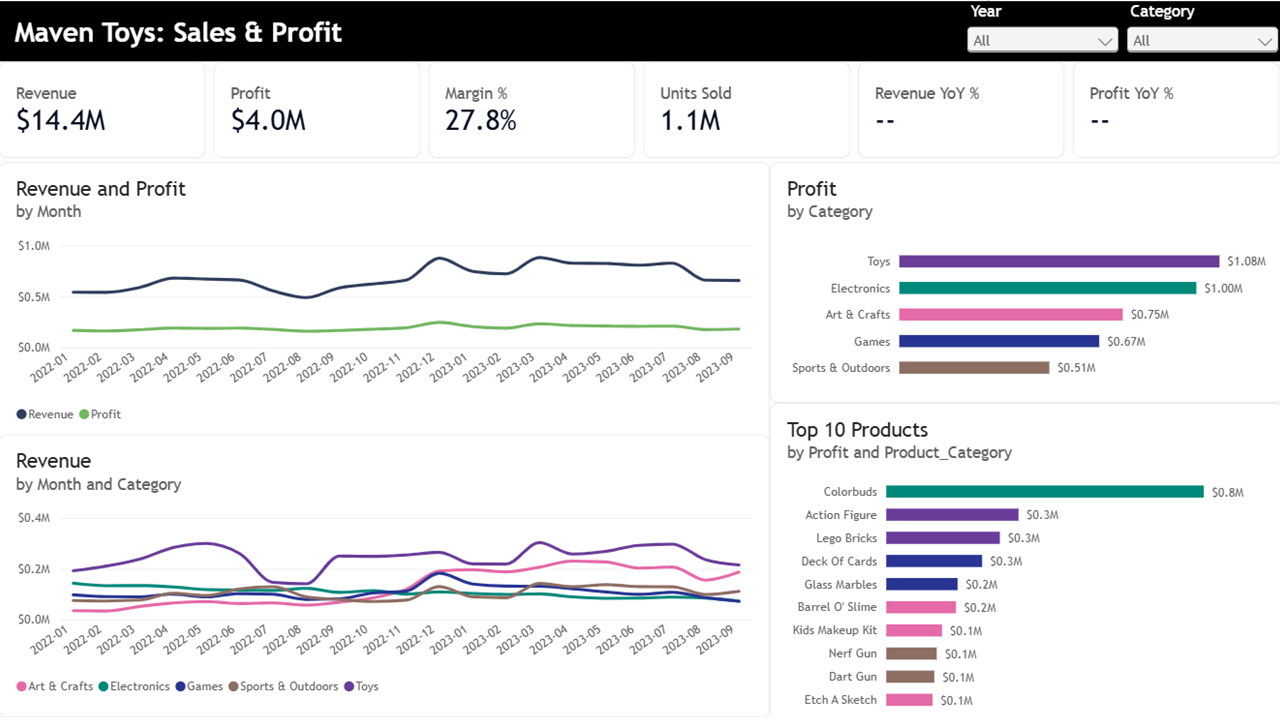

This screenshot's page, from the dashboard's own definition file:
{"tool":"powerbi","page":{"name":"Overview","canvas":[1280,720],"ordinal":0},"visuals":[{"type":"shape","box":[0,0,1280,60],"z":0,"group":"g1"},{"type":"cardVisual","fields":{"Data":["_measures.Revenue","_measures.Profit","_measures.Margin %","_measures.Units Sold","_measures.Revenue YoY %","_measures.Profit YoY %"]},"box":[0,60,1280,96],"z":0},{"type":"textbox","box":[16,16,624,32],"z":1000,"group":"g1"},{"type":"lineChart","fields":{"Category":["calendar.Year-Month"],"Y":["_measures.Revenue","_measures.Profit"]},"box":[0,160,768,282],"z":1000},{"type":"slicer","fields":{"Values":["calendar.Year"]},"box":[960,0,160,64],"z":2000,"group":"g1"},{"type":"lineChart","fields":{"Category":["calendar.Year-Month"],"Series":["products.Product_Category"],"Y":["_measures.Revenue"]},"box":[0,432,768,282],"z":2000},{"type":"slicer","fields":{"Values":["products.Product_Category"]},"box":[1120,0,160,64],"z":3000,"group":"g1"},{"type":"clusteredBarChart","title":"Profit","fields":{"Category":["products.Product_Category"],"Y":["_measures.Profit"]},"box":[768,160,512,240],"z":3000},{"type":"barChart","fields":{"Category":["products.Product_Name"],"Series":["products.Product_Category"],"Y":["_measures.Profit"]},"box":[768,400,512,320],"z":4000},{"type":"group","id":"g1","title":"Group 1","box":[0,0,1280,64],"z":5000}]}

Visuals, with their boxes in screenshot pixels (x1, y1, x2, y2), scaled from the page's 1280x720 canvas onto the 1280x720 screenshot:
shape: region(0, 0, 1279, 60)
cardVisual - _measures.Revenue x _measures.Profit: region(0, 60, 1279, 156)
textbox: region(16, 16, 640, 48)
lineChart - calendar.Year-Month x _measures.Revenue: region(0, 160, 768, 442)
slicer - calendar.Year: region(960, 0, 1120, 64)
lineChart - calendar.Year-Month x products.Product_Category: region(0, 432, 768, 714)
slicer - products.Product_Category: region(1120, 0, 1279, 64)
"Profit" clusteredBarChart: region(768, 160, 1279, 400)
barChart - products.Product_Name x products.Product_Category: region(768, 400, 1279, 719)
"Group 1" group: region(0, 0, 1279, 64)
